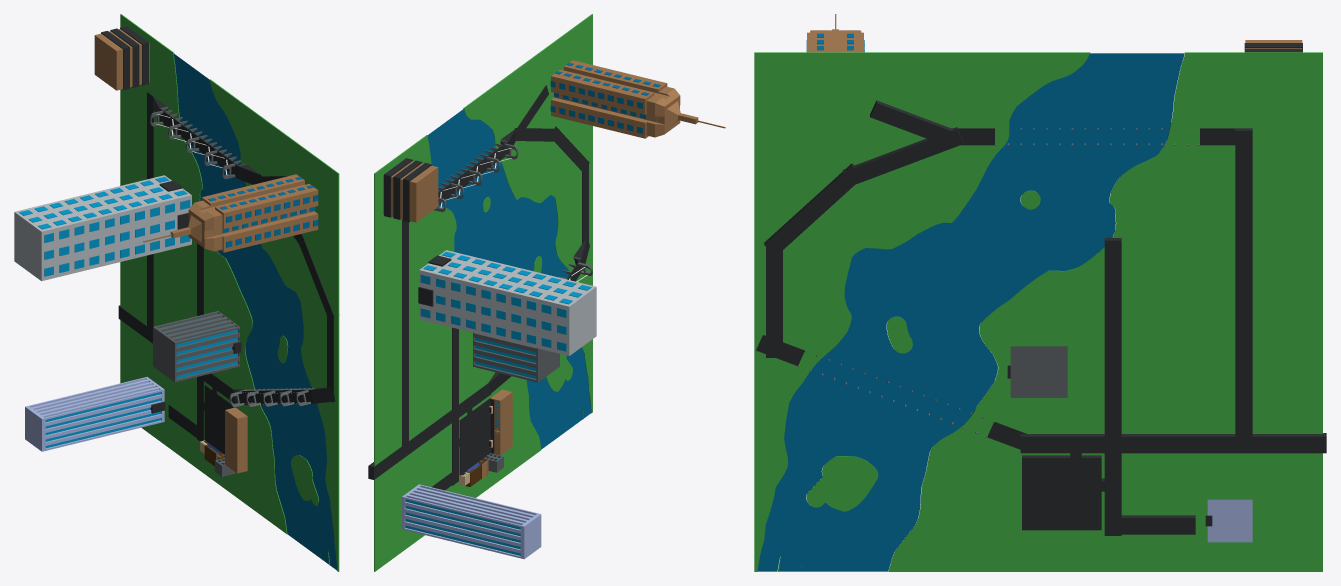
The model's file is tinker.obj.
3 views of the same model, side by side, from view 1: azimuth 30°, elevation 25°; view 2: azimuth 150°, elevation 25°; view 3: azimuth 270°, elevation 25° (orthographic). The views are drawn at different scales.
Visible parts, largest first — view 1: group_0_4634441, group_0_30377, group_0_2829873, group_0_11107152, group_0_12568524, group_0_40919, group_0_6383466, group_0_11452141; view 2: group_0_4634441, group_0_30377, group_0_2829873, group_0_12568524, group_0_11107152, group_0_40919, group_0_11452141, group_0_6383466; view 3: group_0_4634441, group_0_30377, group_0_2829873, group_0_6383466, group_0_11452141, group_0_11107152.
Boxes of the visible parts, x1,y1,x2,y2 form: group_0_4634441: (120, 14, 339, 571); group_0_30377: (174, 54, 336, 570); group_0_2829873: (101, 26, 335, 464); group_0_11107152: (94, 29, 318, 473); group_0_12568524: (14, 175, 191, 281); group_0_40919: (19, 177, 237, 465); group_0_6383466: (150, 106, 317, 476); group_0_11452141: (25, 377, 164, 451); group_0_4634441: (374, 14, 592, 571); group_0_30377: (428, 62, 660, 449); group_0_2829873: (368, 85, 589, 490); group_0_12568524: (419, 250, 596, 355); group_0_11107152: (383, 60, 725, 478); group_0_40919: (405, 251, 591, 555); group_0_11452141: (402, 484, 541, 559); group_0_6383466: (434, 139, 592, 472); group_0_4634441: (754, 52, 1322, 571); group_0_30377: (757, 33, 1184, 571); group_0_2829873: (756, 43, 1326, 535); group_0_6383466: (798, 128, 1199, 437); group_0_11452141: (1207, 499, 1252, 542); group_0_11107152: (807, 14, 1302, 52).
Size of the model in its own units: 89.25 by 201 by 201.
